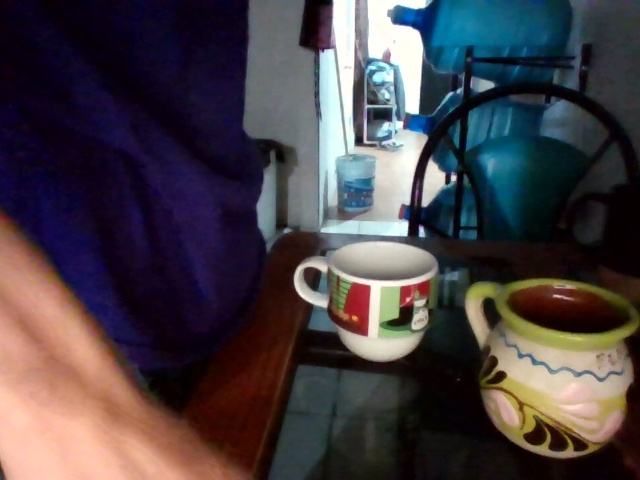taza: (464, 276, 640, 461), (293, 240, 439, 363), (335, 154, 376, 218)
